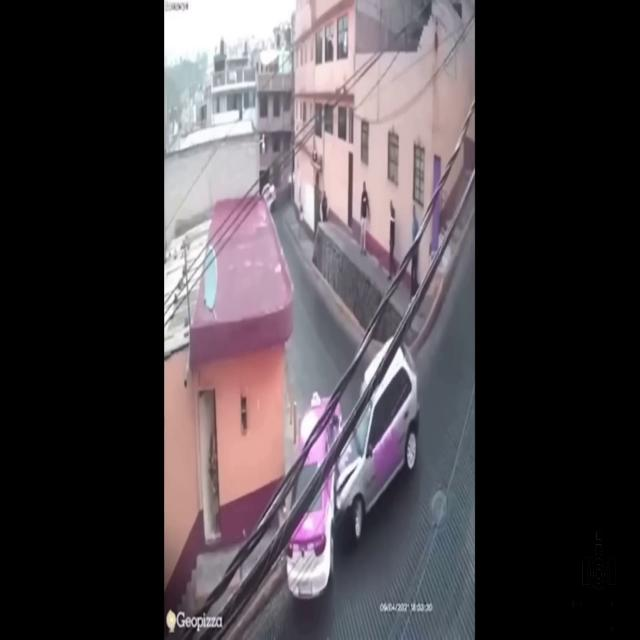accident: (292, 354, 418, 582)
